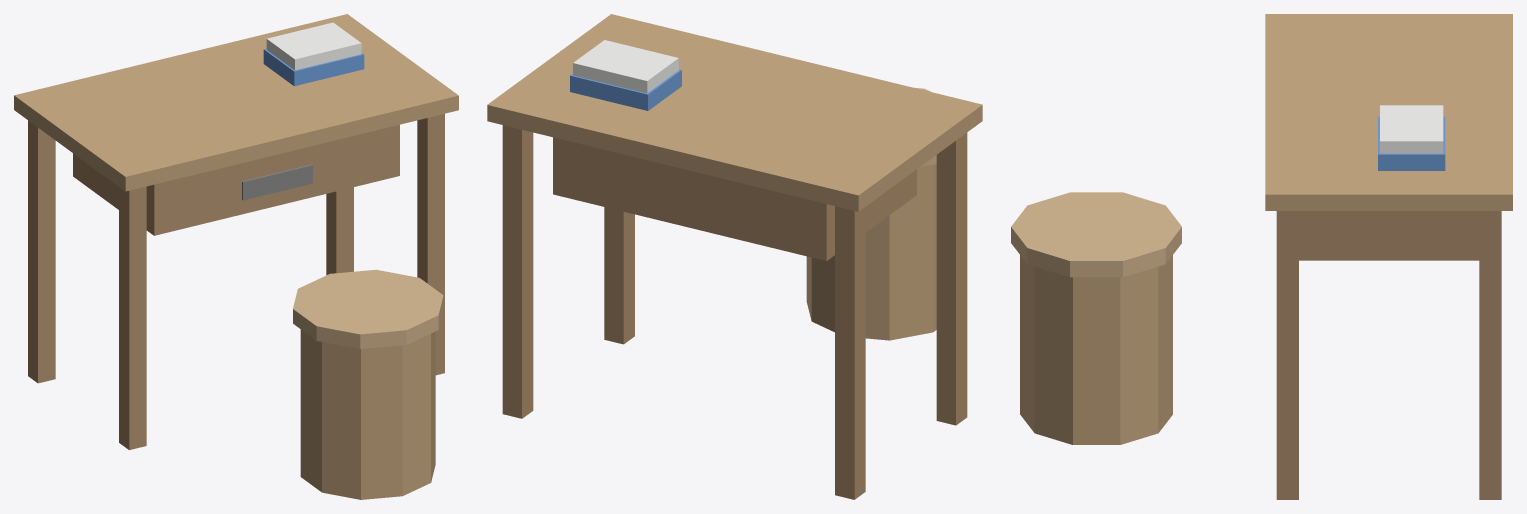
Rendered from reading-table-stool.glb.
3 views of the same model, side by side, from view 1: azimuth 30°, elevation 25°; view 2: azimuth 150°, elevation 25°; view 3: azimuth 270°, elevation 25° (orthographic). The views are drawn at different scales.
Visible parts, largest first — view 1: reading-table-stool_Cube.004, reading-table-stool_Cylinder, reading-table-stool_Cube.005, reading-table-stool_Cylinder.001, reading-table-stool_Cube, reading-table-stool_Cube.001, reading-table-stool_Cube.002, reading-table-stool_Cube.008, reading-table-stool_Cube.003, reading-table-stool_Cube.007, reading-table-stool_Cube.006; view 2: reading-table-stool_Cube.004, reading-table-stool_Cube.005, reading-table-stool_Cylinder, reading-table-stool_Cube.003, reading-table-stool_Cube, reading-table-stool_Cube.001, reading-table-stool_Cube.002, reading-table-stool_Cube.008, reading-table-stool_Cube.007; view 3: reading-table-stool_Cube.004, reading-table-stool_Cylinder, reading-table-stool_Cylinder.001, reading-table-stool_Cube.005, reading-table-stool_Cube.002, reading-table-stool_Cube.003, reading-table-stool_Cube.008, reading-table-stool_Cube.007.
Part boxes in pixels (x1,y1,x2,y2): reading-table-stool_Cube.004: [14, 14, 458, 191]; reading-table-stool_Cylinder: [300, 329, 435, 499]; reading-table-stool_Cube.005: [73, 124, 399, 235]; reading-table-stool_Cylinder.001: [293, 269, 443, 348]; reading-table-stool_Cube: [119, 186, 146, 450]; reading-table-stool_Cube.001: [28, 120, 55, 383]; reading-table-stool_Cube.002: [417, 113, 444, 375]; reading-table-stool_Cube.008: [266, 22, 361, 70]; reading-table-stool_Cube.003: [326, 187, 353, 275]; reading-table-stool_Cube.007: [263, 48, 364, 86]; reading-table-stool_Cube.006: [242, 164, 312, 200]; reading-table-stool_Cube.004: [487, 14, 982, 211]; reading-table-stool_Cube.005: [553, 137, 916, 260]; reading-table-stool_Cylinder: [806, 164, 936, 340]; reading-table-stool_Cube.003: [502, 125, 533, 418]; reading-table-stool_Cube: [936, 132, 967, 425]; reading-table-stool_Cube.001: [835, 206, 865, 499]; reading-table-stool_Cube.002: [604, 207, 634, 344]; reading-table-stool_Cube.008: [573, 40, 678, 93]; reading-table-stool_Cube.007: [570, 69, 681, 110]; reading-table-stool_Cube.004: [1265, 14, 1512, 210]; reading-table-stool_Cylinder: [1020, 255, 1172, 444]; reading-table-stool_Cylinder.001: [1011, 192, 1181, 277]; reading-table-stool_Cube.005: [1299, 211, 1479, 260]; reading-table-stool_Cube.002: [1276, 211, 1298, 499]; reading-table-stool_Cube.003: [1479, 211, 1501, 499]; reading-table-stool_Cube.008: [1380, 105, 1443, 153]; reading-table-stool_Cube.007: [1378, 116, 1445, 170].
Size of the model in its own units: 0.95 by 0.83 by 1.11.
